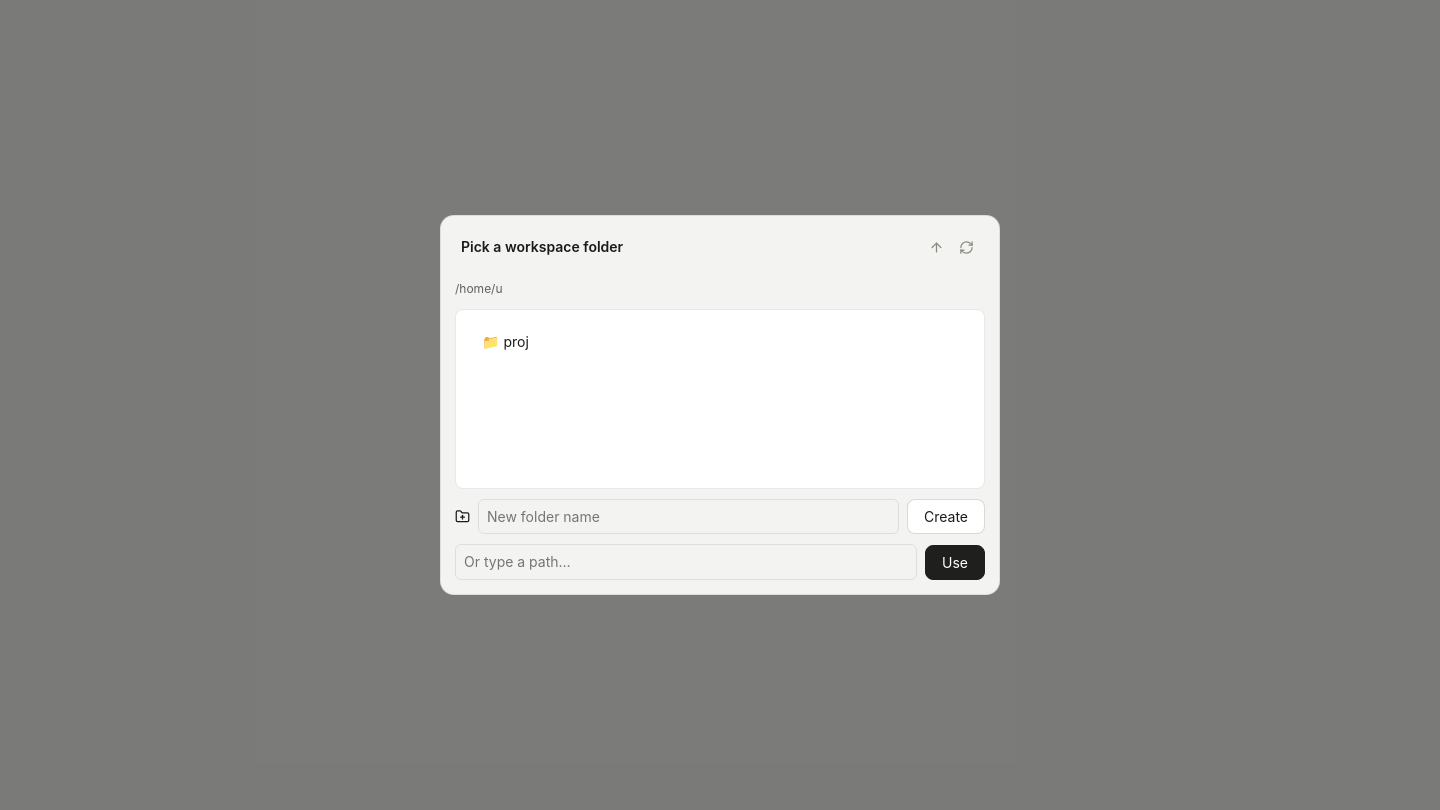
Test: folder picker › mkdir confirms server-side, reloads in place and clears the input
Expected: the button "Create" is disabled, [907,499,985,534]
Type "new" into the field with placeholder "New folder name".
click(688, 516); type("new")  # box [478,499,899,534]
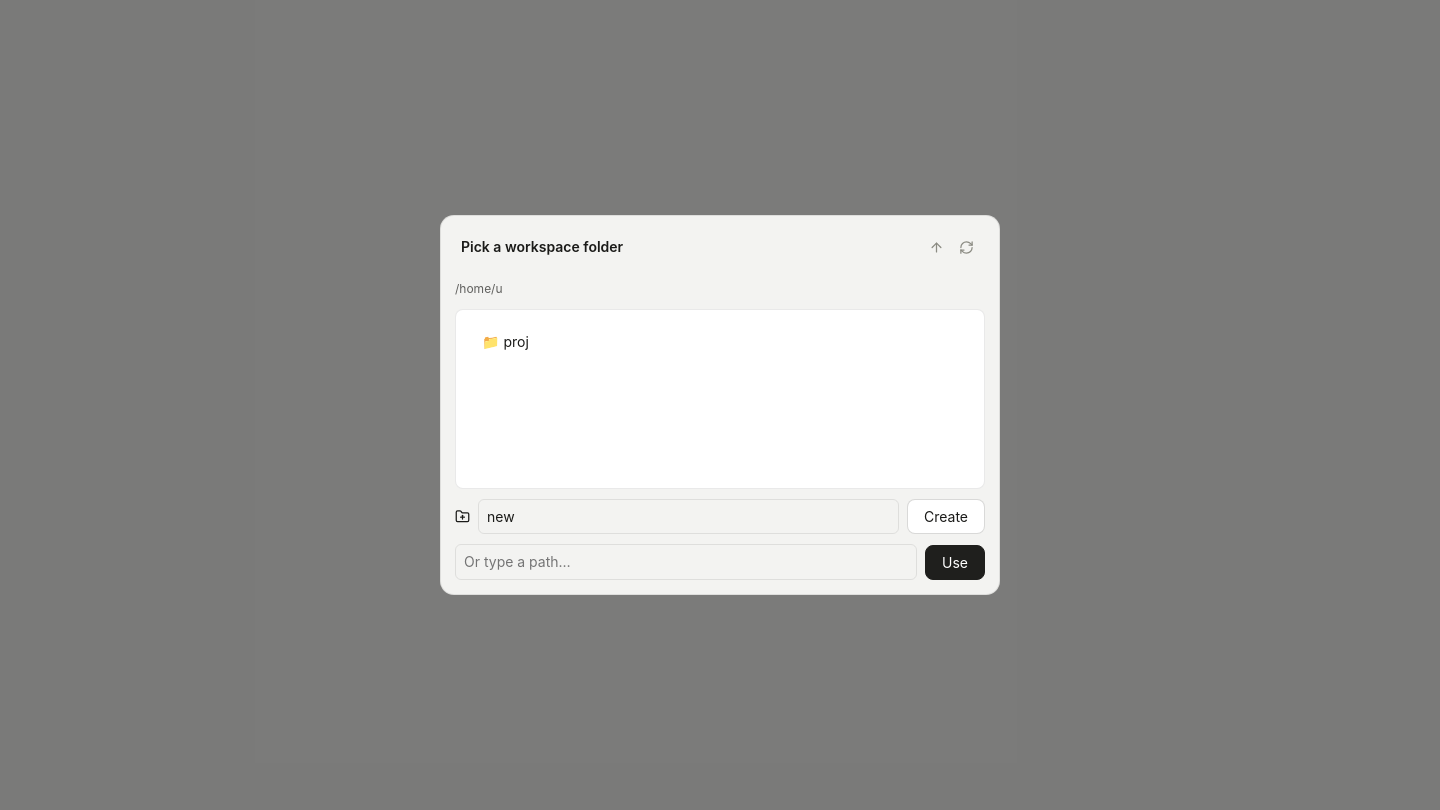
Expected: the button "Create" is enabled, [907,499,985,534]
Press Enter in the 1st field, box [478,499,899,534]
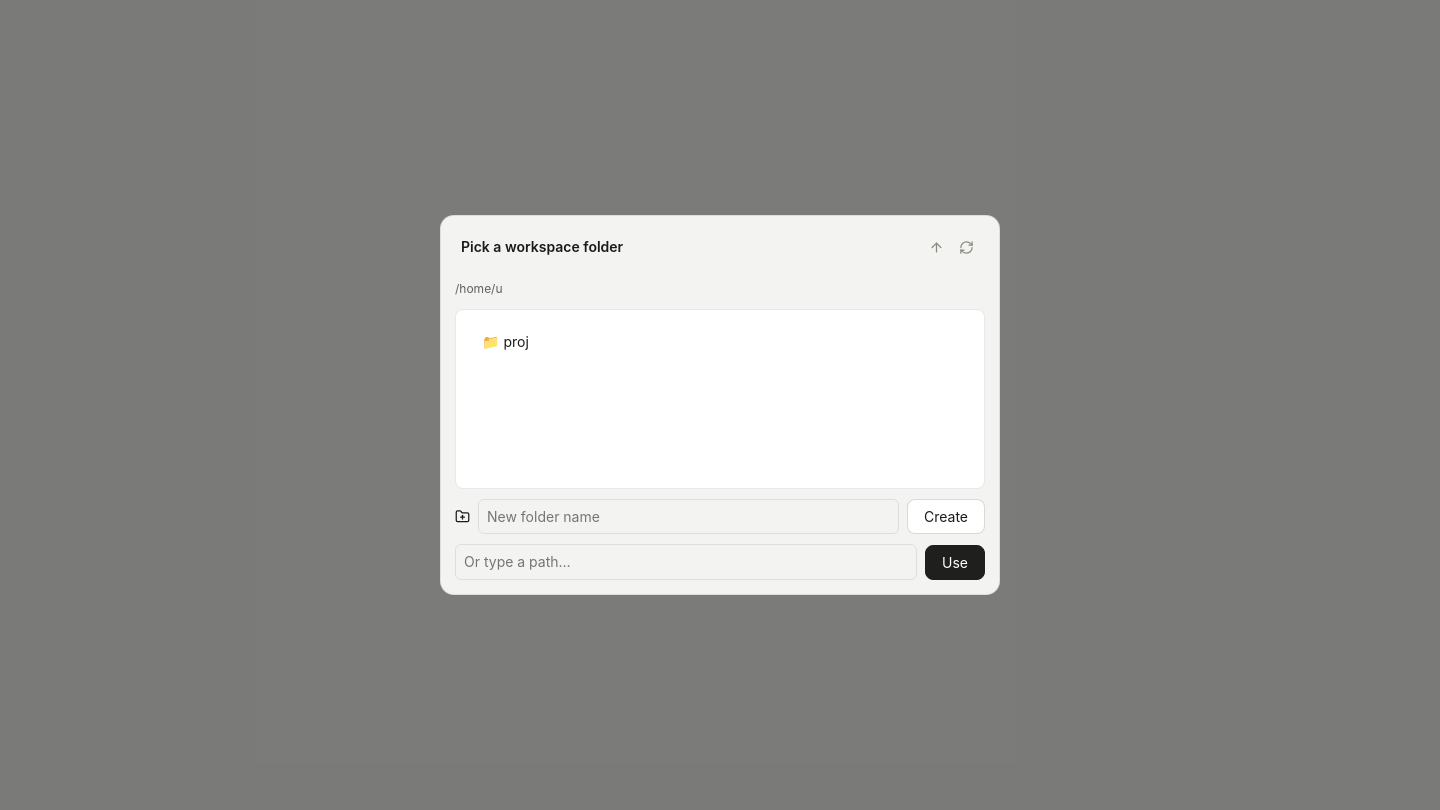
Expected: the field with placeholder "New folder name" is empty
Type "dupe" into the field with placeholder "New folder name".
click(688, 516); type("dupe")  # box [478,499,899,534]
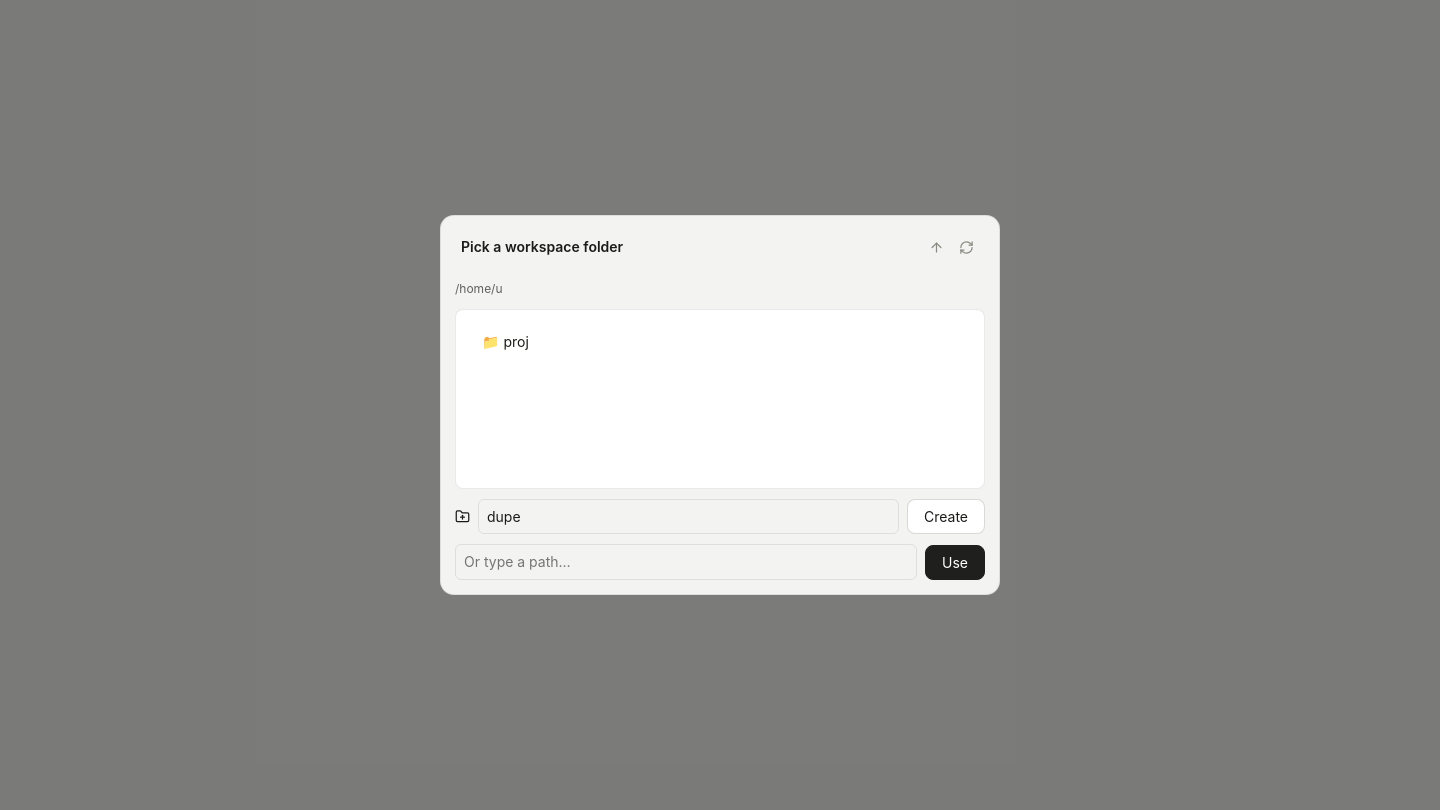
Click the button "Create".
click(946, 516)  # box [907,499,985,534]
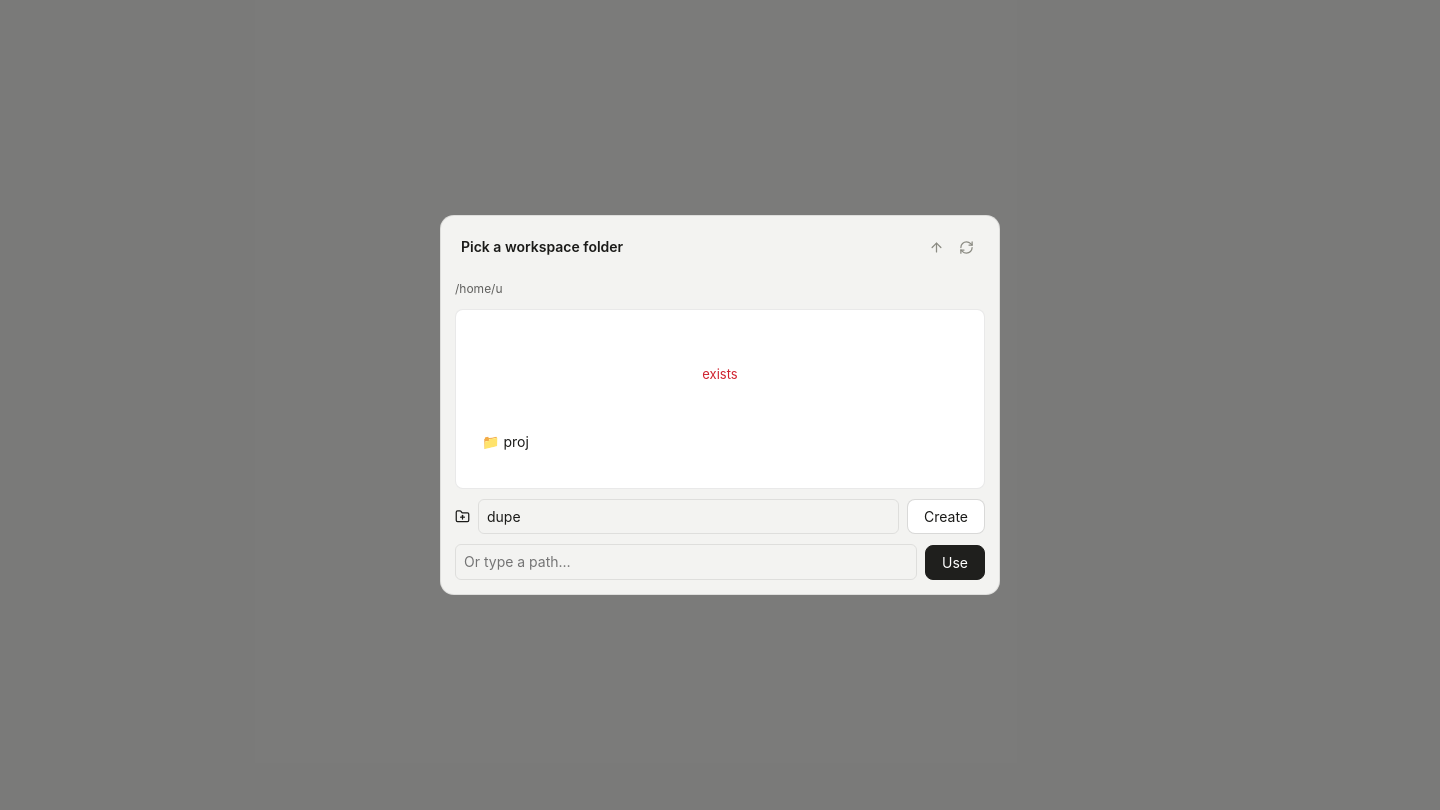
Expected: the text with class "fp-error" reads "exists", [702,366,738,382]
